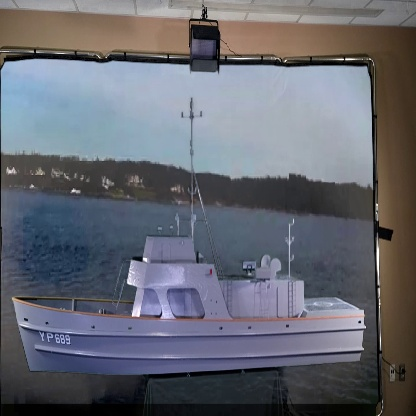YP689: (8, 80, 366, 374)
